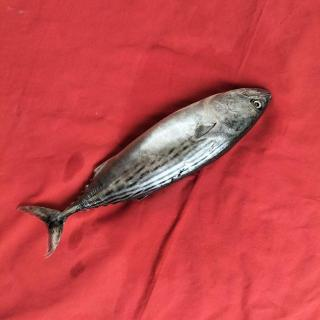Ikan: (16, 74, 277, 265)
